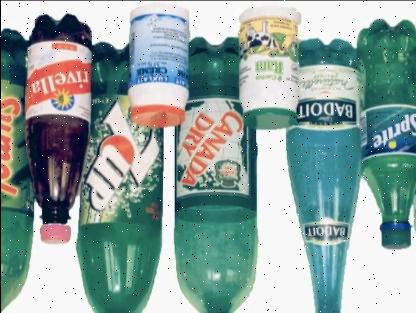Plastic Bottle: (75, 42, 161, 312), (174, 36, 257, 312), (286, 38, 358, 312), (24, 13, 90, 243), (356, 18, 416, 248)
